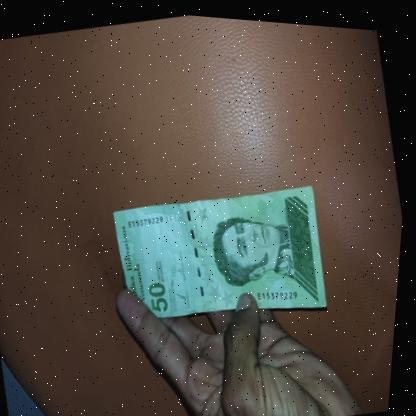fifty-front-vef: (106, 166, 341, 342)
